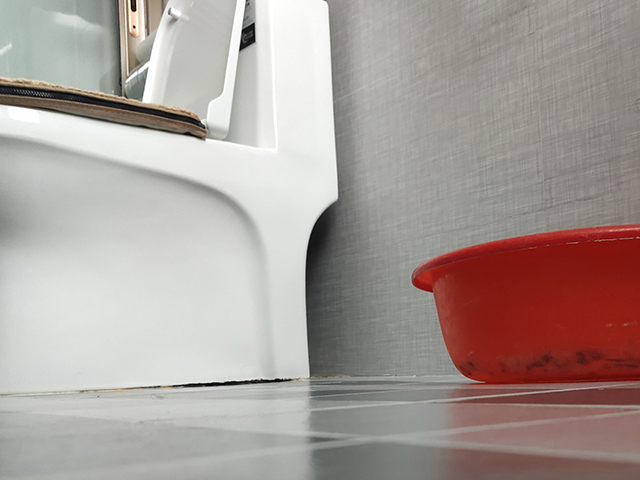closestool: (1, 1, 341, 397)
